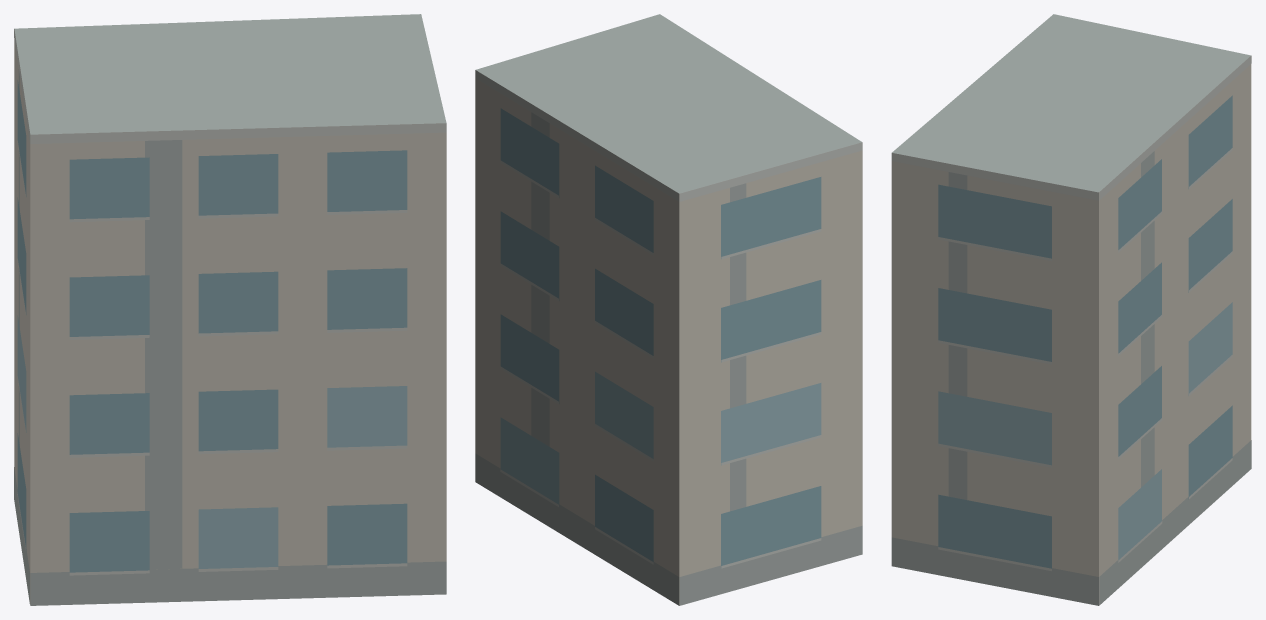
Rendered from residential-cef71acc-6b87-43db-9d52-2ddea8b8984f.glb.
3 views of the same model, side by side, from view 1: azimuth 30°, elevation 25°; view 2: azimuth 150°, elevation 25°; view 3: azimuth 270°, elevation 25° (orthographic). The views are drawn at different scales.
Visible parts, largest first — view 1: residential-cef71acc-6b87-43db-9d52-2ddea8b8984f.tmp; view 2: residential-cef71acc-6b87-43db-9d52-2ddea8b8984f.tmp; view 3: residential-cef71acc-6b87-43db-9d52-2ddea8b8984f.tmp.
Part boxes in pixels (left/top/right/bottom): residential-cef71acc-6b87-43db-9d52-2ddea8b8984f.tmp: left=14, top=14, right=446, bottom=605; residential-cef71acc-6b87-43db-9d52-2ddea8b8984f.tmp: left=475, top=14, right=862, bottom=605; residential-cef71acc-6b87-43db-9d52-2ddea8b8984f.tmp: left=891, top=14, right=1251, bottom=605.
Bounding box in the file's own units: 11.3 × 12.2 × 9.63.
